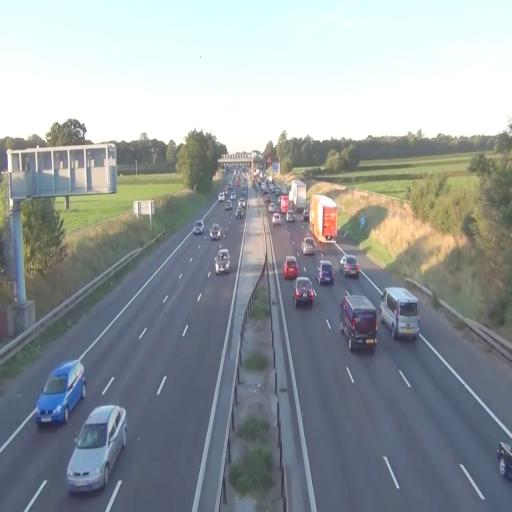vehicle: (66, 403, 127, 494), (35, 359, 86, 426), (340, 294, 378, 353), (380, 286, 420, 342), (340, 294, 378, 352), (381, 286, 420, 341), (309, 193, 338, 244), (288, 178, 309, 220), (288, 179, 308, 219), (294, 276, 315, 308), (214, 246, 232, 274), (340, 254, 360, 278), (283, 256, 299, 282), (318, 260, 334, 285), (210, 223, 222, 240), (236, 202, 245, 220), (194, 220, 204, 236)
